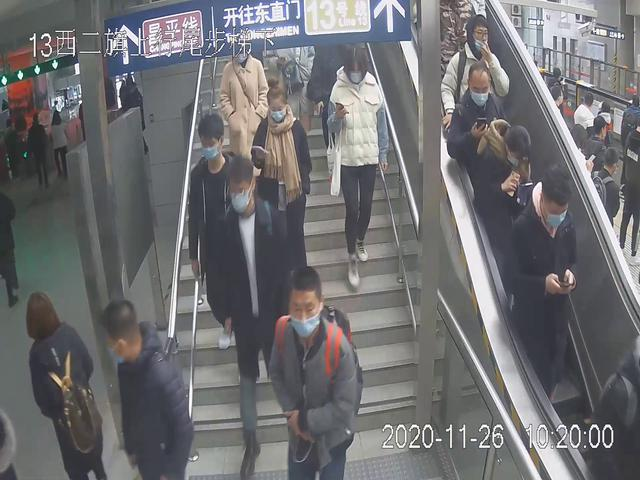person: (204, 149, 300, 480), (266, 262, 368, 480), (505, 167, 581, 416), (102, 288, 196, 480), (321, 32, 389, 288), (23, 290, 105, 480), (249, 87, 314, 273)
